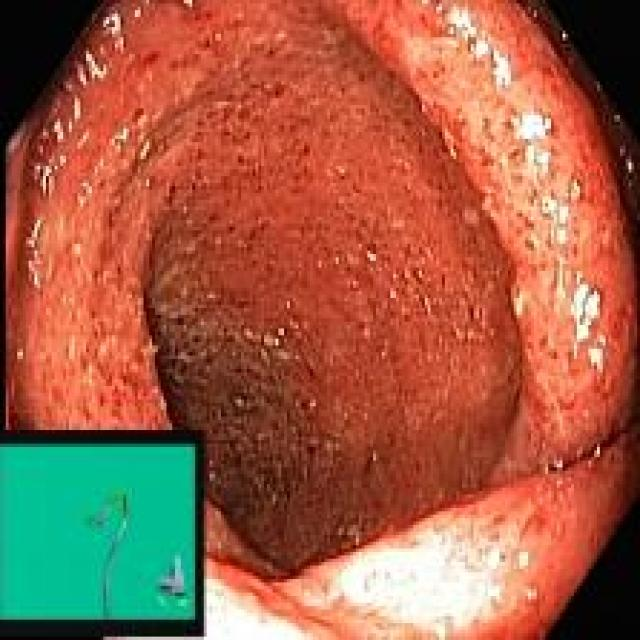ulcerative-colitis-grade-3: (8, 3, 640, 637)
